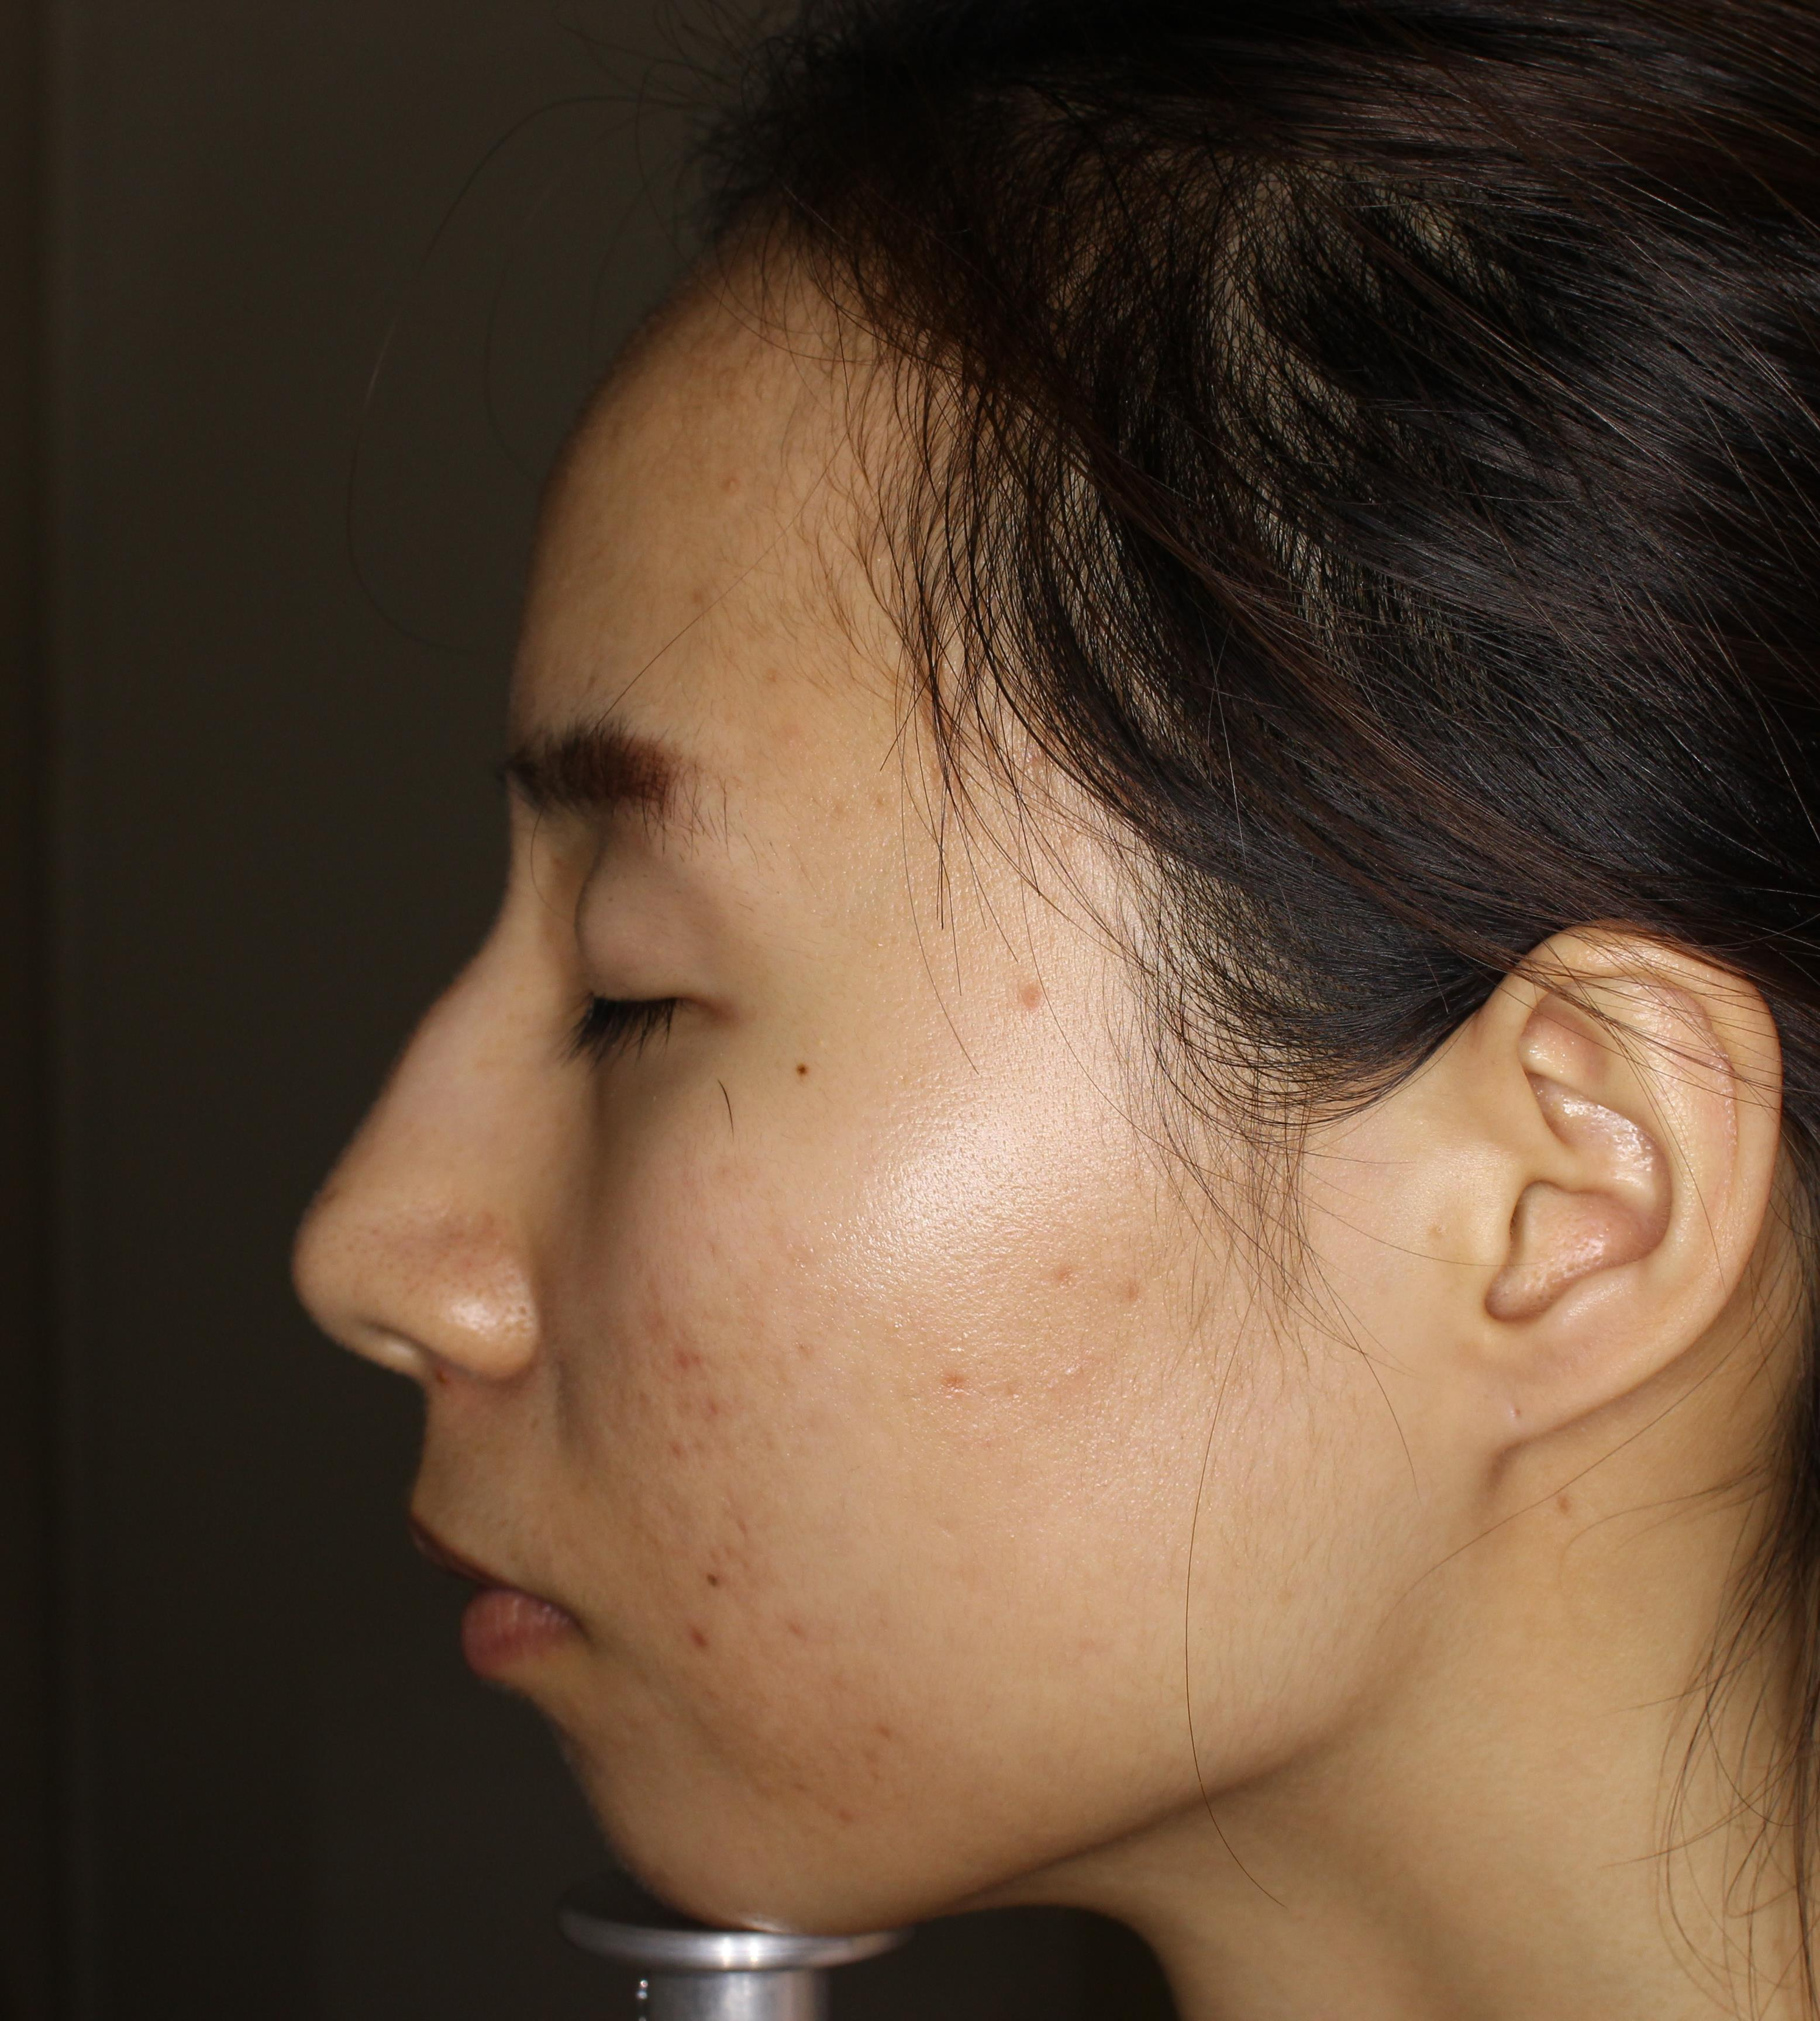fore: (629, 1294, 731, 1410), (664, 1586, 754, 1684)
